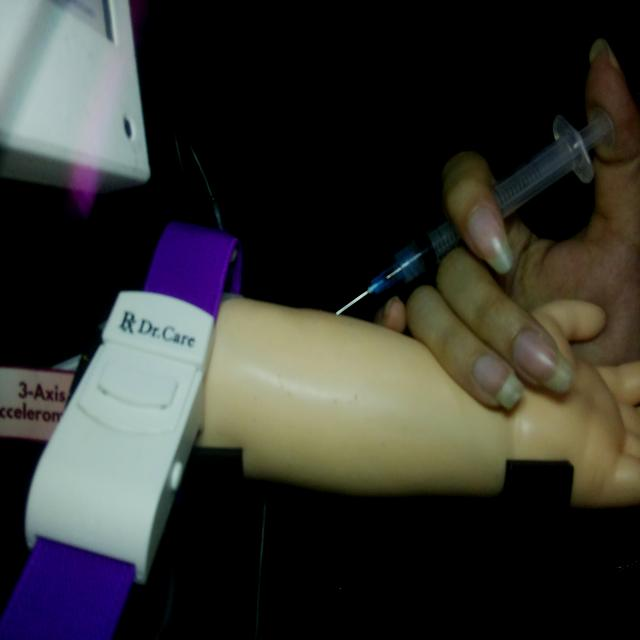22 degrees: (334, 105, 616, 318)
